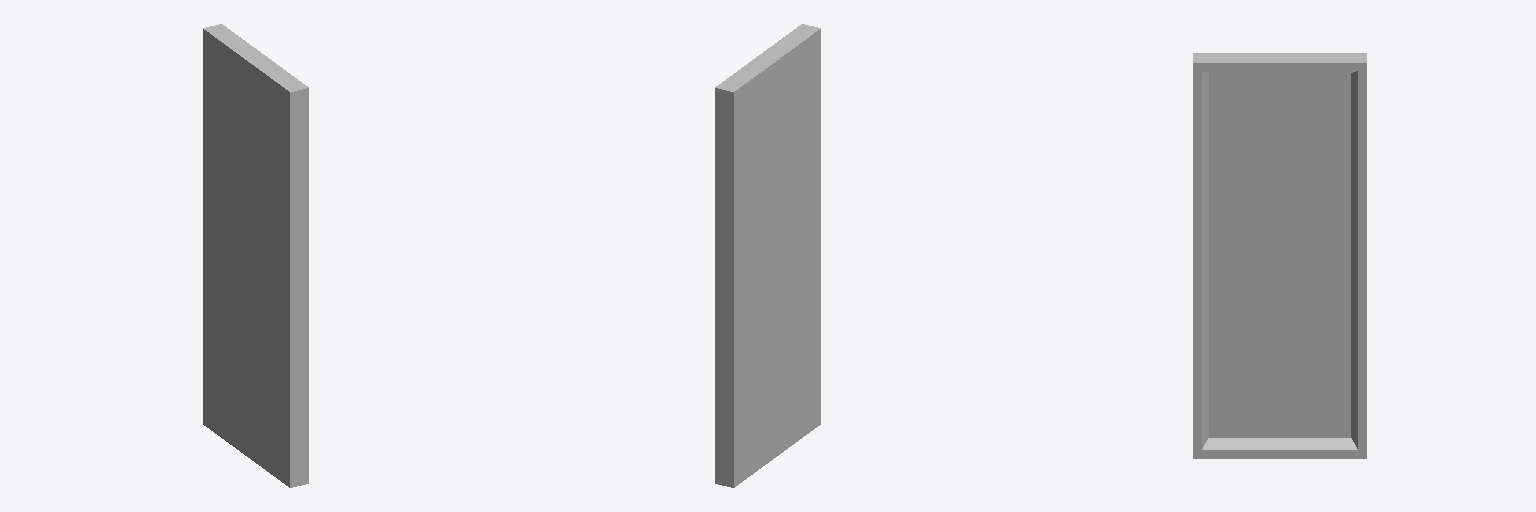
Rendered from Mirror.obj.
3 views of the same model, side by side, from view 1: azimuth 30°, elevation 25°; view 2: azimuth 150°, elevation 25°; view 3: azimuth 270°, elevation 25° (orthographic).
Parts seen in each view (by area): view 1: Cube; view 2: Cube; view 3: Cube.
Boxes of the visible parts, x1=… form: Cube: x1=203, y1=24, x2=308, y2=487; Cube: x1=715, y1=24, x2=820, y2=487; Cube: x1=1193, y1=53, x2=1366, y2=458.
Size of the model in its own units: 0.5 by 10 by 4.